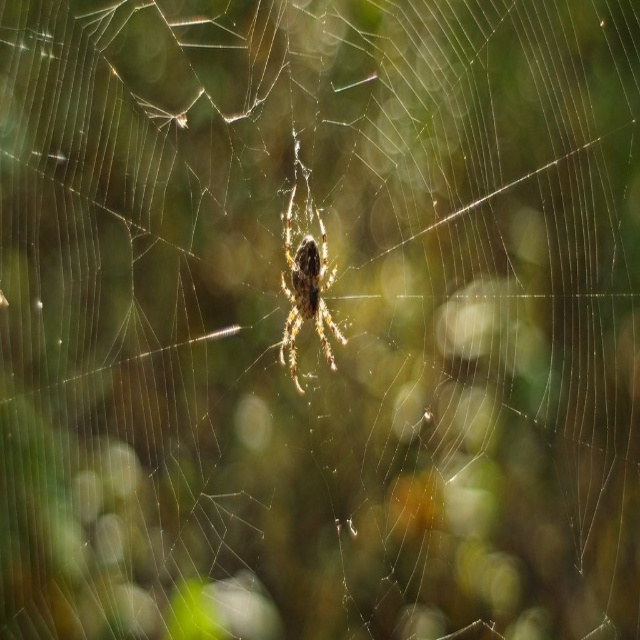Spider: (279, 184, 349, 394)
